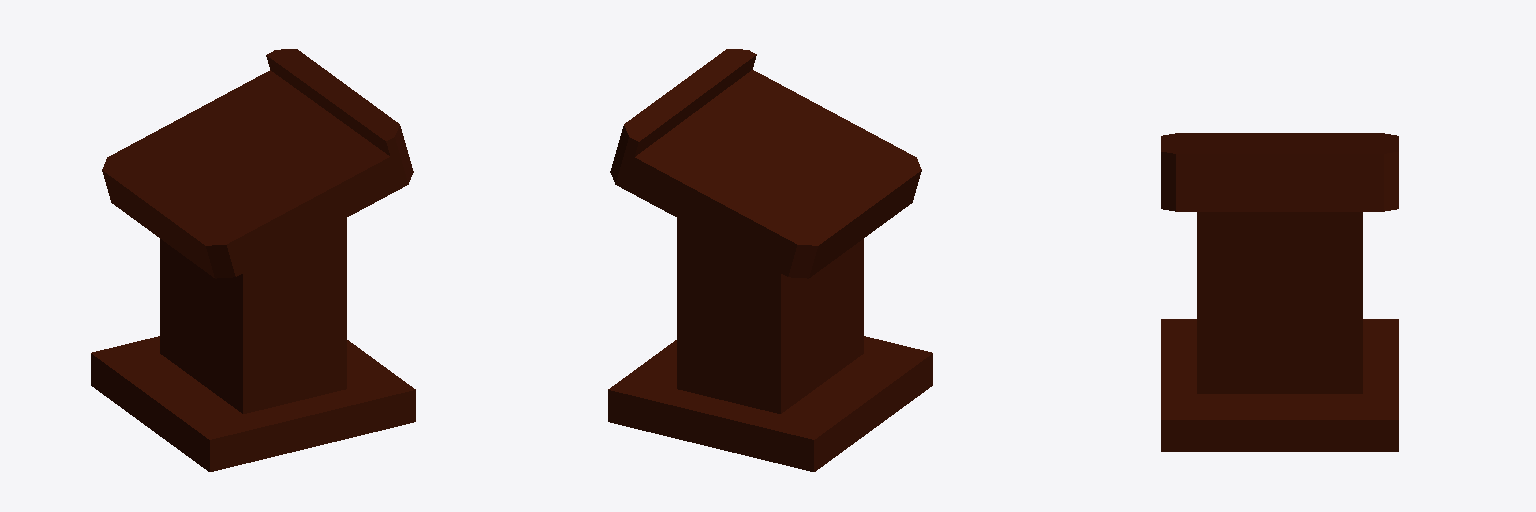
File: Lectern2.obj
The picture shows the model from 3 angles: view 1: azimuth 30°, elevation 25°; view 2: azimuth 150°, elevation 25°; view 3: azimuth 270°, elevation 25°; orthographic projection.
Visible parts, largest first — view 1: Untitled.001, Plane.001; view 2: Untitled.001, Plane.001; view 3: Untitled.001, Plane.001.
Part boxes in pixels (left/top/right/bottom): Untitled.001: left=91, top=218, right=415, bottom=471; Plane.001: left=102, top=49, right=413, bottom=278; Untitled.001: left=608, top=218, right=932, bottom=471; Plane.001: left=610, top=49, right=921, bottom=278; Untitled.001: left=1161, top=212, right=1398, bottom=451; Plane.001: left=1161, top=133, right=1398, bottom=211.
Bounding box in the file's own units: 2.05 × 2.72 × 2.